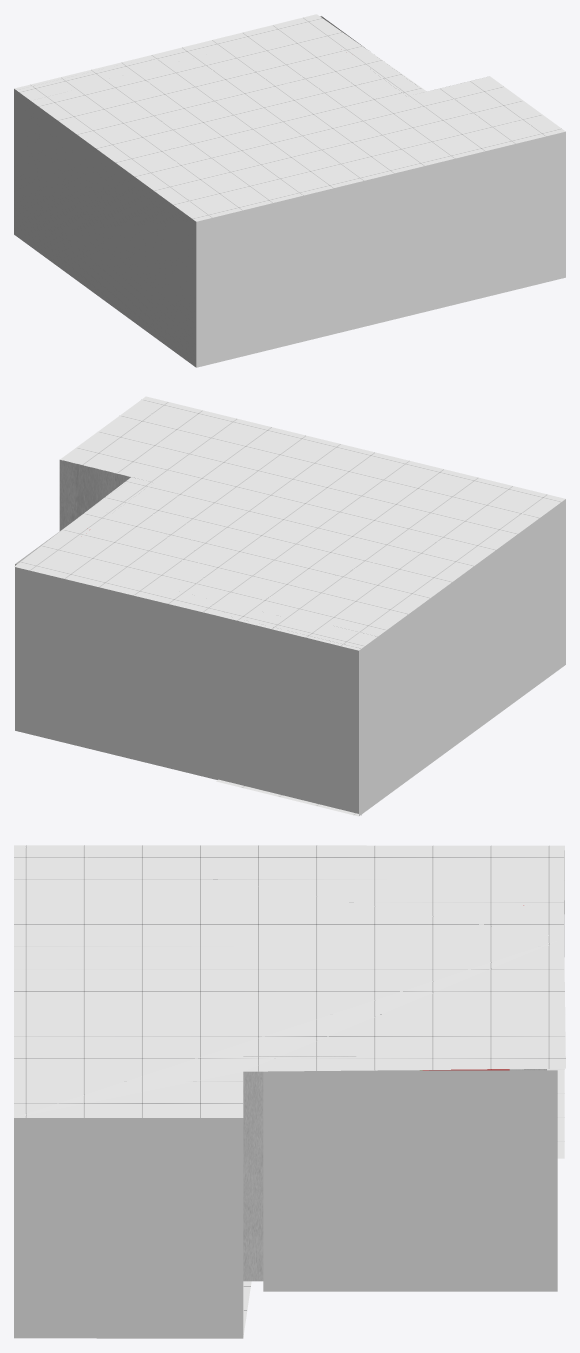
File: workbench3.dae
3 renders of one model, top to bottom at view 1: azimuth 30°, elevation 25°; view 2: azimuth 150°, elevation 25°; view 3: azimuth 270°, elevation 25°, orthographic. The views are drawn at different scales.
Visible parts, largest first — view 1: walls_ceiling; view 2: walls_ceiling, behind_wall, corner_wall; view 3: walls_ceiling, behind_wall, corner_wall.
Boxes of the visible parts, <box> form: walls_ceiling: <box>14,14,565,367</box>; walls_ceiling: <box>14,396,565,816</box>; behind_wall: <box>15,525,361,815</box>; corner_wall: <box>59,460,144,530</box>; walls_ceiling: <box>14,845,565,1338</box>; behind_wall: <box>263,1070,557,1291</box>; corner_wall: <box>243,1056,355,1281</box>.
Bounding box in the file's own units: 9.06 × 3.44 × 7.75.
19 materials, 16 textured.
